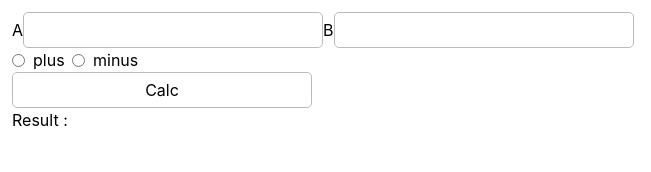
it: cal 단위 테스트 › 정상 입력과 plus 선택시 정상 동작
This screenshot has width=651, height=172.
Type "1" into the field labelled "A".
click(173, 30); type("1")  # box [23, 12, 323, 48]
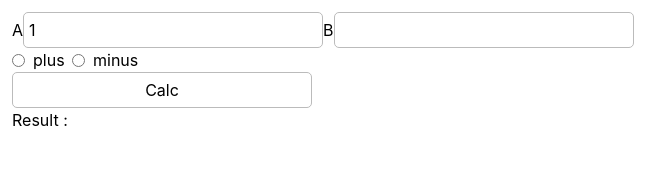
Type "2" into the field labelled "B".
click(484, 30); type("2")  # box [334, 12, 634, 48]
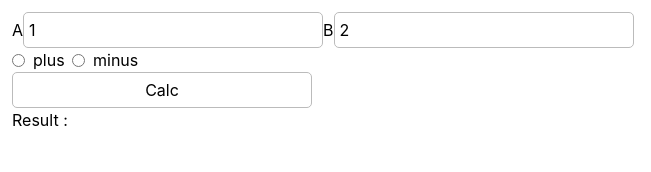
Click the radio button labelled "plus".
click(18, 60)  # box [12, 54, 25, 66]
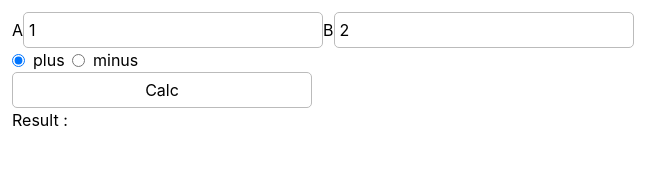
Click the button "Calc".
click(162, 90)  # box [12, 72, 312, 108]
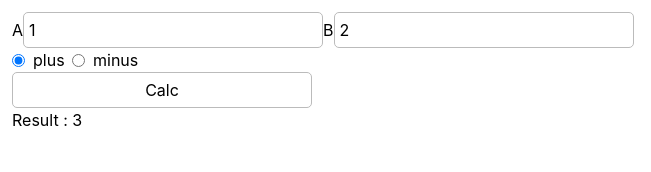
Result: the text with test id "result" reads "Result : 3" at [12, 110, 82, 130]
